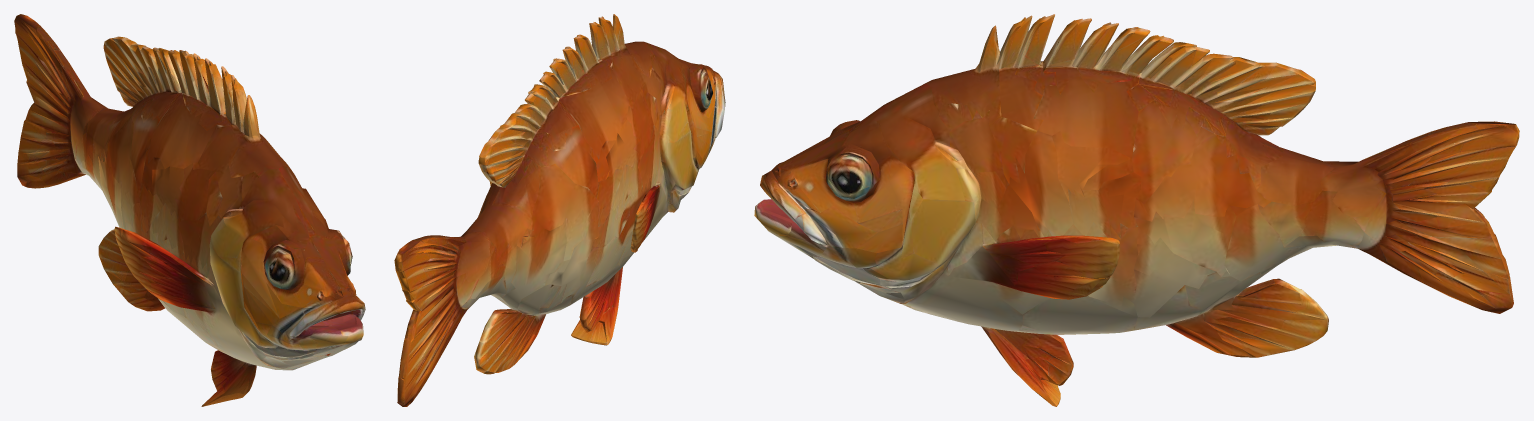
File: perch.glb
3 renders of one model, left to right at view 1: azimuth 30°, elevation 25°; view 2: azimuth 150°, elevation 25°; view 3: azimuth 270°, elevation 25°, orthographic. The views are drawn at different scales.
Size of the model in its own units: 0.5433 by 1.1 by 2.
Materials: 1 (1 with a texture image).
